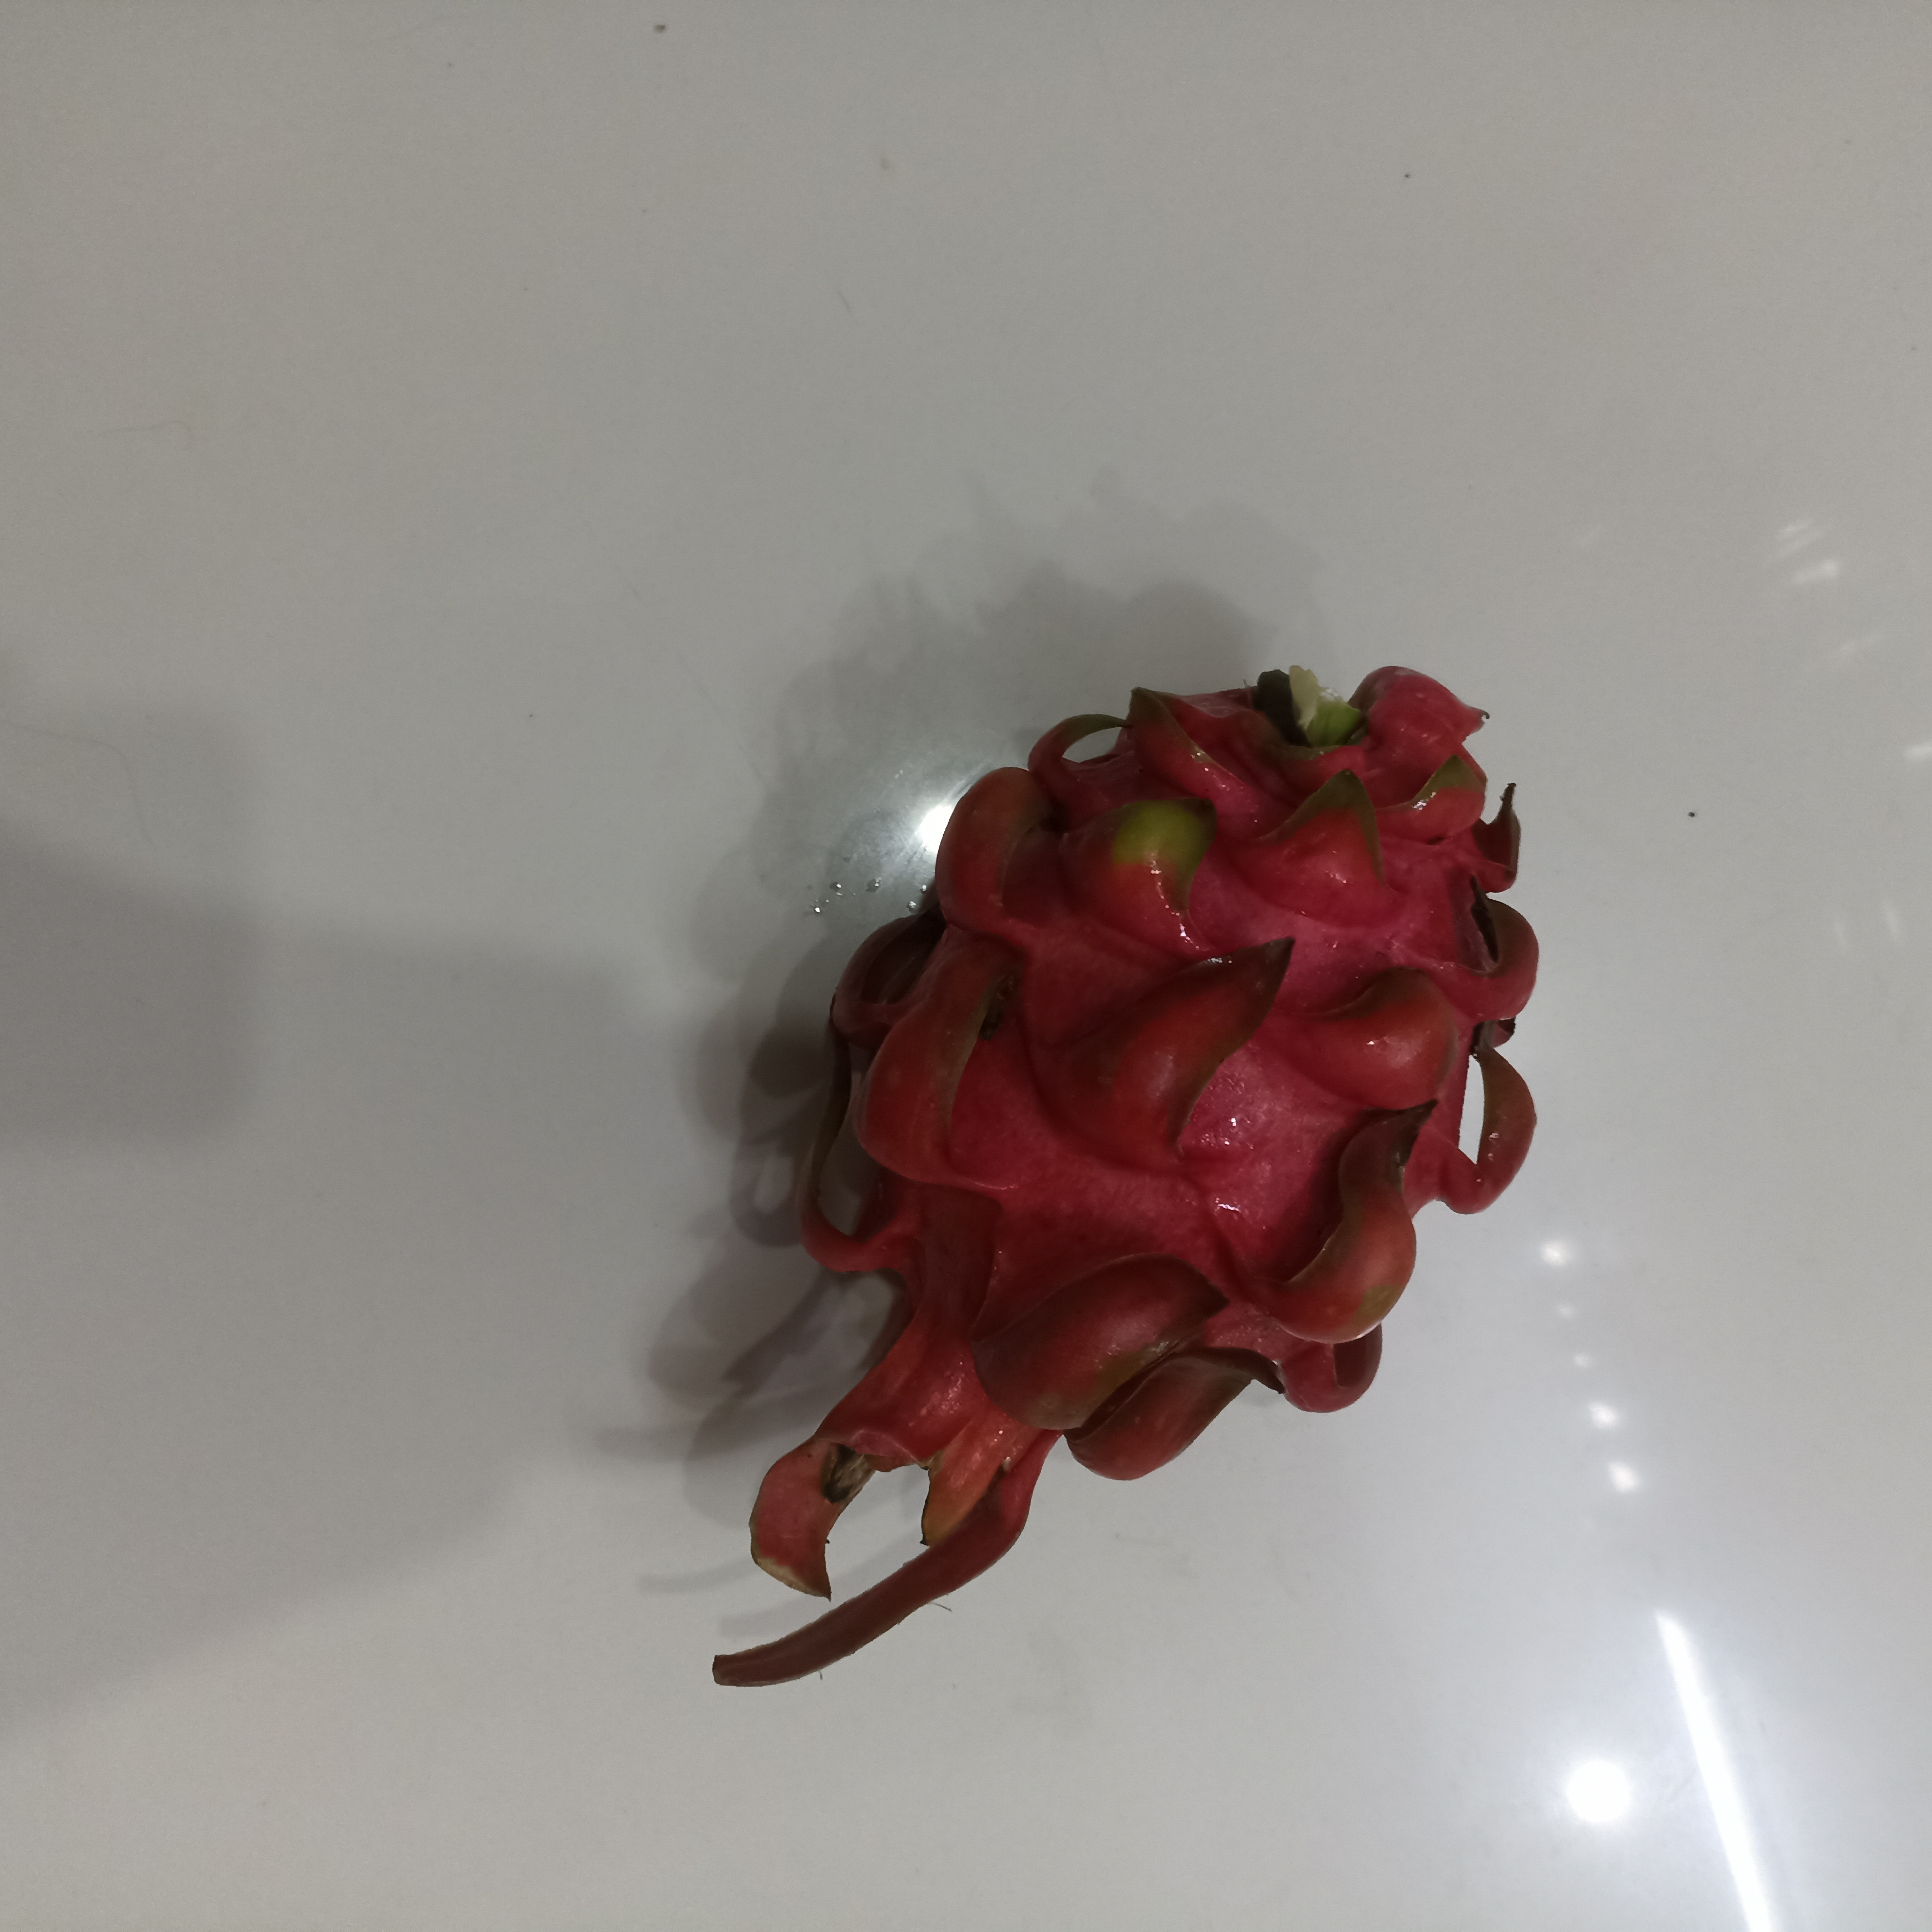Thanh long: (766, 671, 1507, 1579)
